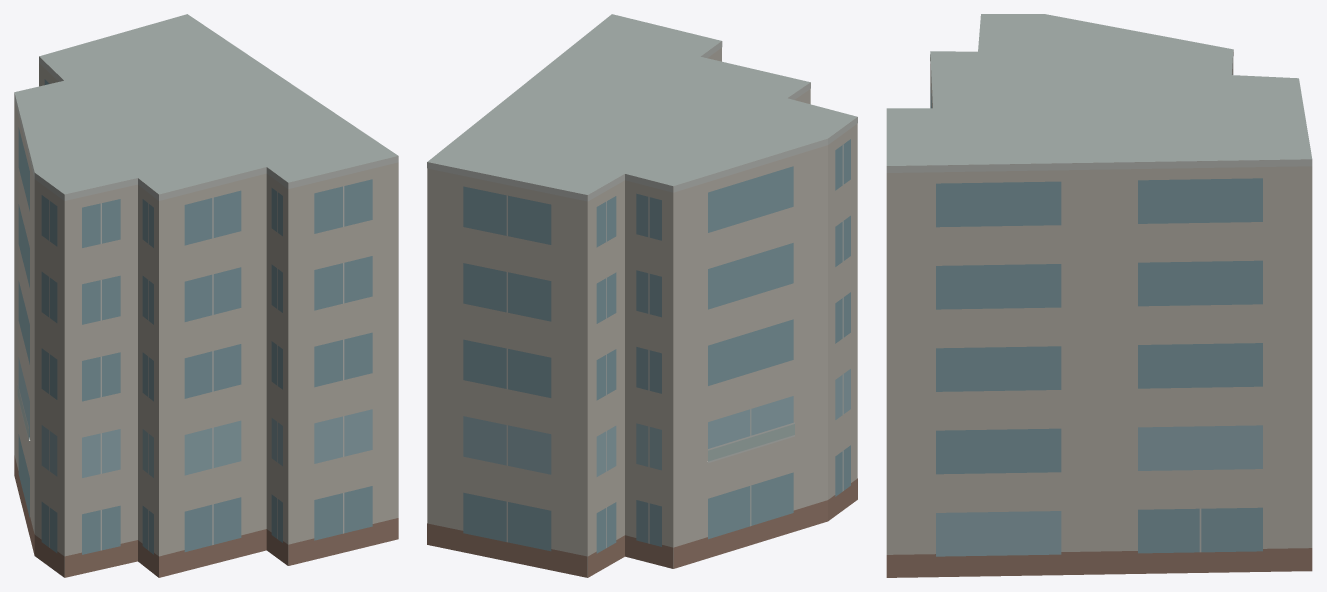
Rendered from survey-upis-32923486.glb.
3 views of the same model, side by side, from view 1: azimuth 30°, elevation 25°; view 2: azimuth 150°, elevation 25°; view 3: azimuth 270°, elevation 25° (orthographic). The views are drawn at different scales.
Visible parts, largest first — view 1: survey-upis-32923486.tmp; view 2: survey-upis-32923486.tmp; view 3: survey-upis-32923486.tmp.
Boxes of the visible parts, bbox=[...] form: survey-upis-32923486.tmp: bbox=[14, 14, 398, 577]; survey-upis-32923486.tmp: bbox=[427, 14, 857, 577]; survey-upis-32923486.tmp: bbox=[886, 14, 1312, 577].
Size of the model in its own units: 11.42 by 14.4 by 13.5.
